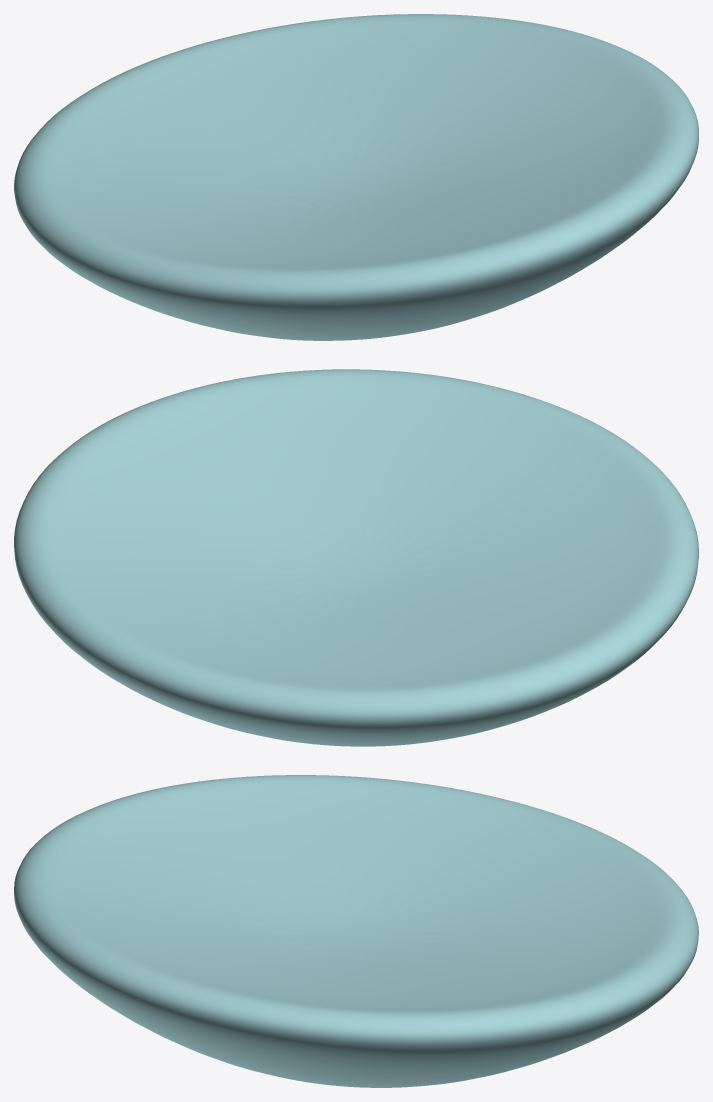
3 renders of one model, top to bottom at view 1: azimuth 30°, elevation 25°; view 2: azimuth 150°, elevation 25°; view 3: azimuth 270°, elevation 25°, orthographic.
Parts seen in each view (by area): view 1: 左侧眼前房; view 2: 左侧眼前房; view 3: 左侧眼前房.
Boxes of the visible parts, <box> form: 左侧眼前房: <box>14,14,698,340</box>; 左侧眼前房: <box>14,369,698,746</box>; 左侧眼前房: <box>14,775,698,1087</box>.
Bounding box in the file's own units: 0.0188 × 0.00553 × 0.0188.
